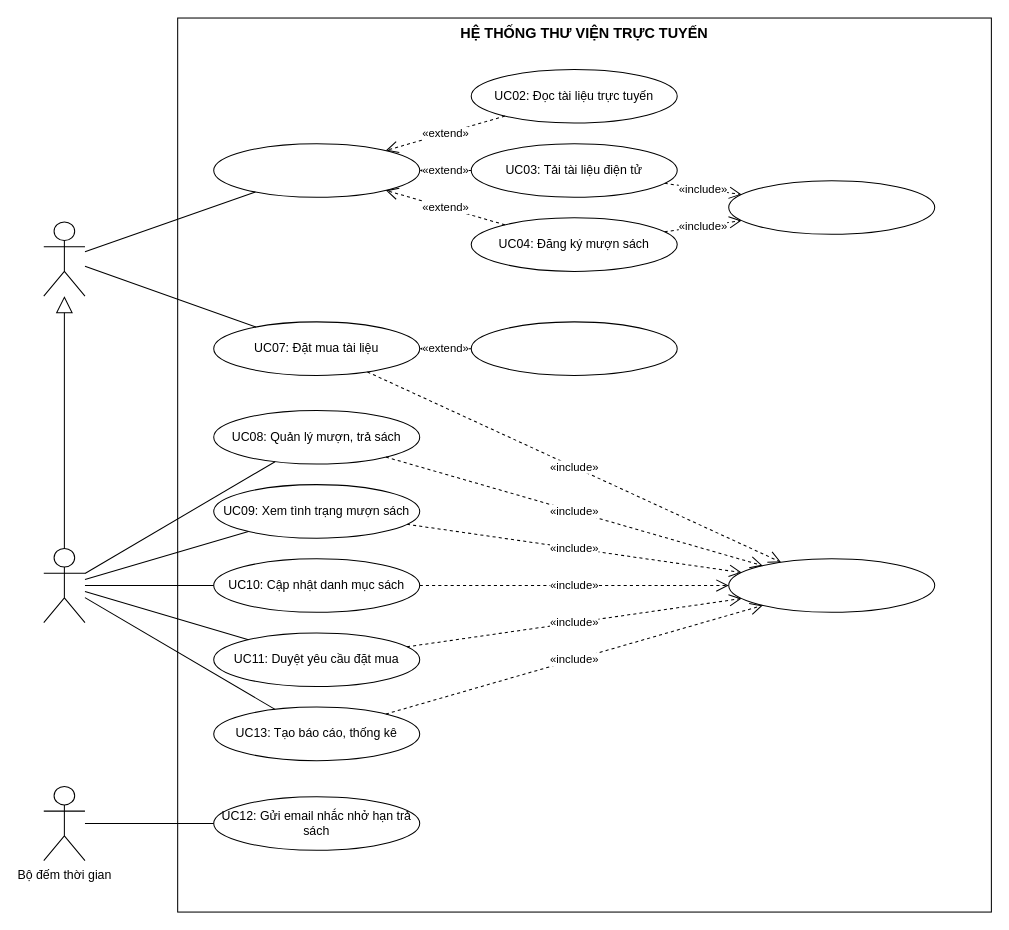
Some shapes in this 1009 by 930 pixel diagram are drawn without their labels. The shapes that lost their labels are listed below. From the top down, each one's box as (x1, y1, x2, y2) in pixels, then its label:
(213, 143, 420, 197): UC01: Tìm kiếm tài liệu
(728, 180, 935, 234): UC14: Xác thực thẻ thư viện
(43, 221, 85, 296): Độc giả
(470, 321, 677, 375): UC05: Đăng ký tài khoản
(43, 547, 85, 623): Thủ thư
(728, 558, 935, 612): UC06: Đăng nhập
